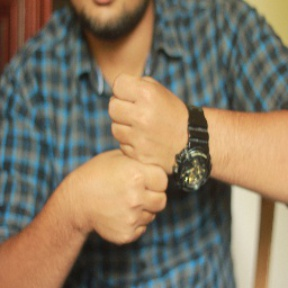G: (91, 68, 186, 249)
